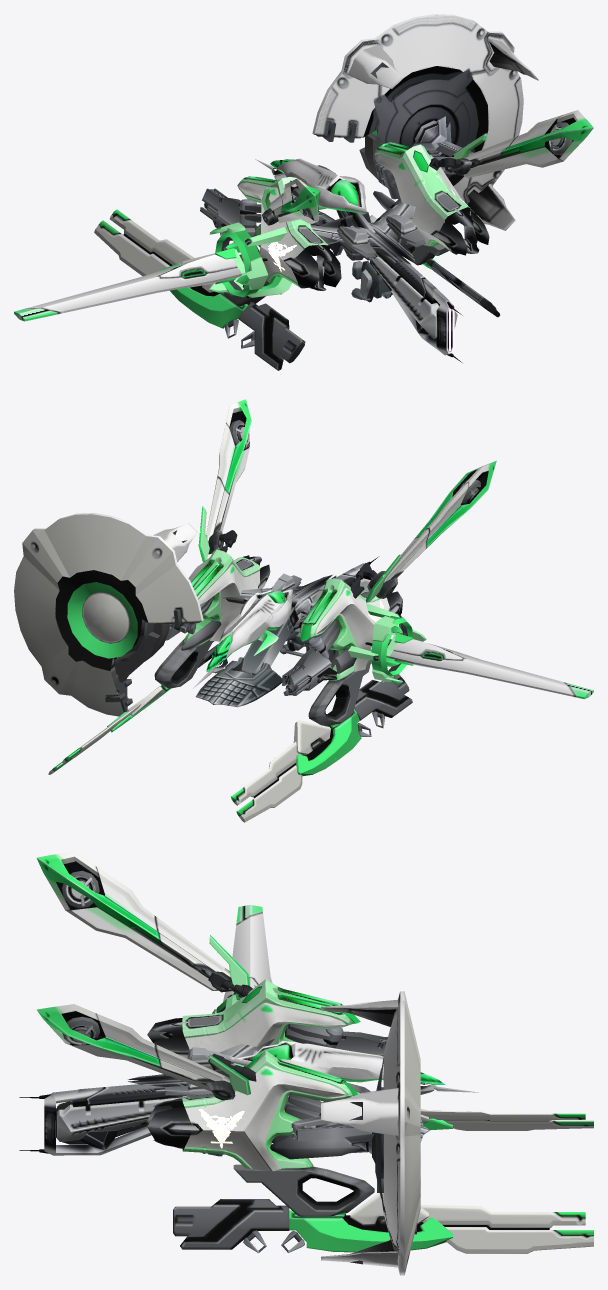
3 views of the same model, one above another, from view 1: azimuth 30°, elevation 25°; view 2: azimuth 150°, elevation 25°; view 3: azimuth 270°, elevation 25° (orthographic). The views are drawn at different scales.
Visible parts, largest first — view 1: body; view 2: body; view 3: body.
Part boxes in pixels (bbox=[...]): body: bbox=[14, 14, 593, 370]; body: bbox=[14, 399, 593, 822]; body: bbox=[19, 851, 593, 1275].
Bounding box in the file's own units: 52.92 × 21.02 × 41.76.
2 materials, 2 textured.
